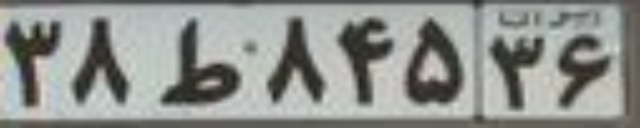3: (5, 16, 59, 108), (490, 34, 550, 110)
4: (334, 16, 393, 105)
5: (403, 16, 465, 105)
6: (554, 33, 612, 107)
8: (69, 16, 131, 107), (266, 15, 323, 103)
taa: (153, 14, 240, 108)
